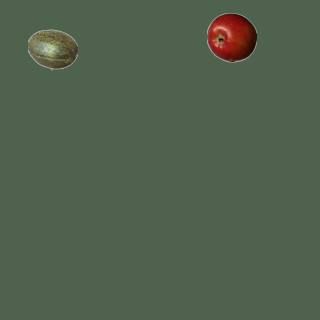Apple Braeburn: (206, 12, 256, 62)
Melon Piel de Sapo: (27, 24, 77, 74)
